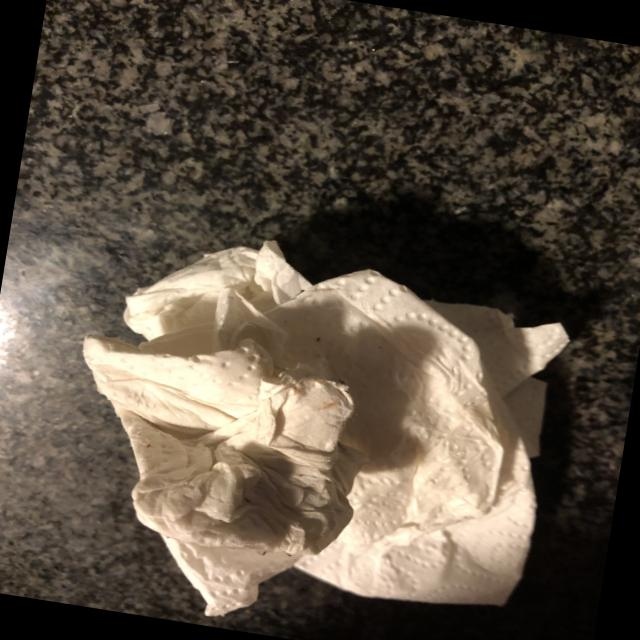organic waste: (37, 209, 581, 640)
